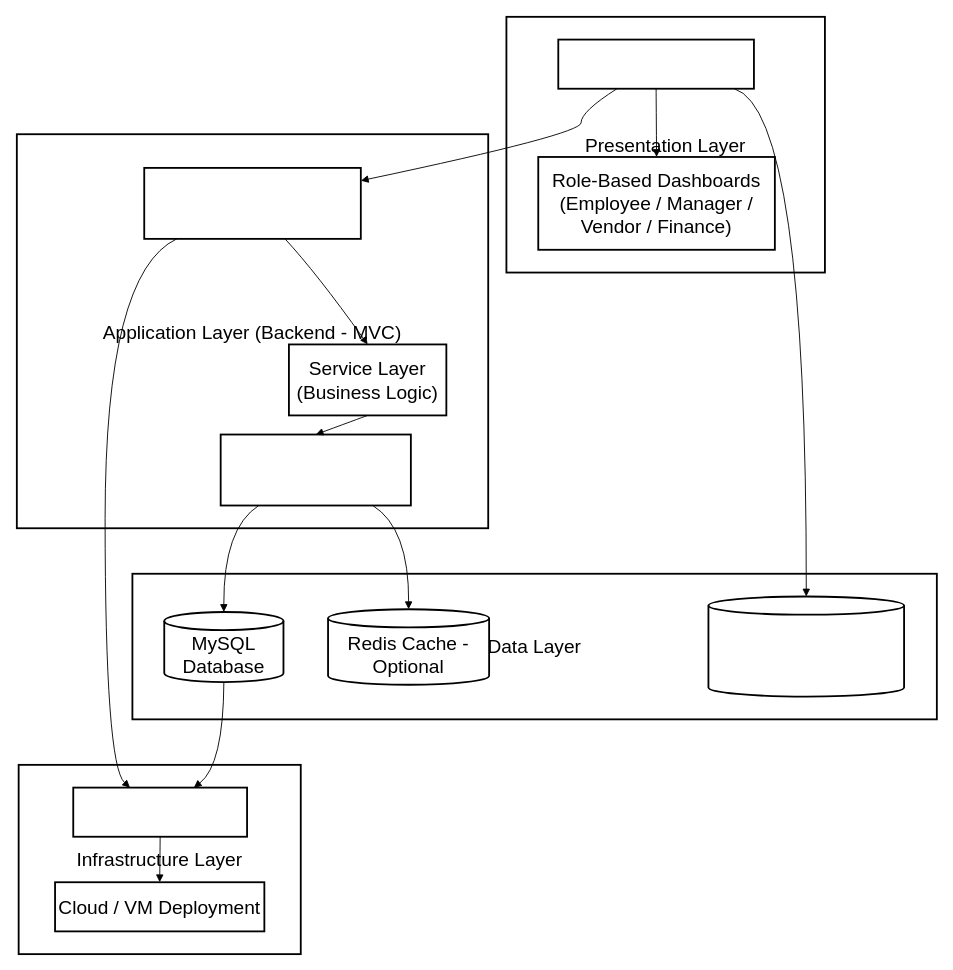
Some shapes in this 953 by 970 pixel diagram are drawn without their labels. The shapes that lost their labels are listed below. From the top down, each one's centre as x and y in pixels, then its label:
point (655, 63): React Frontend (Vite)
point (252, 203): Controllers (HTTP Request Handling)
point (315, 469): Models (Prisma ORM) Data Access Layer
point (806, 646): LocalStorage - Prototype Only
point (160, 811): Docker Containers
